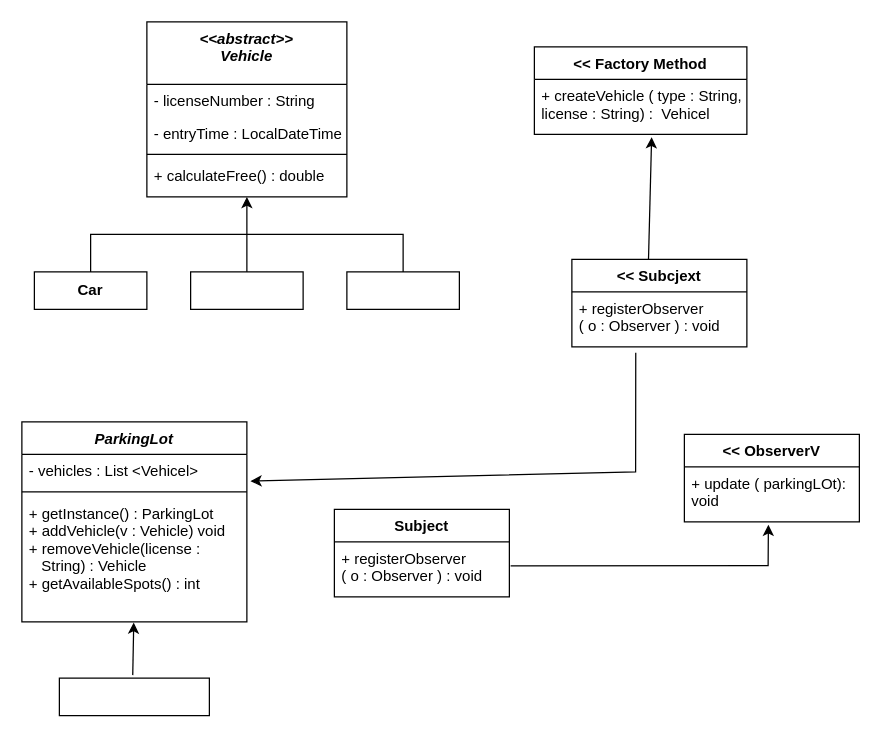
Image size: 881x738. Some labels were removed from this diagram. Each missing label, with the centre of its shape:
Facade: pixel 133 696
Motorcycle: pixel 402 290
Truck: pixel 246 290
